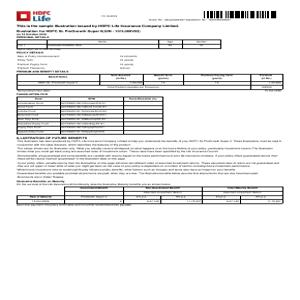image: (16, 8, 55, 23)
table: (17, 95, 163, 134), (16, 186, 285, 204), (16, 74, 284, 90), (16, 37, 222, 50)
text: (16, 136, 283, 185), (16, 49, 147, 74), (16, 22, 181, 29), (16, 29, 143, 38), (16, 92, 49, 96)
